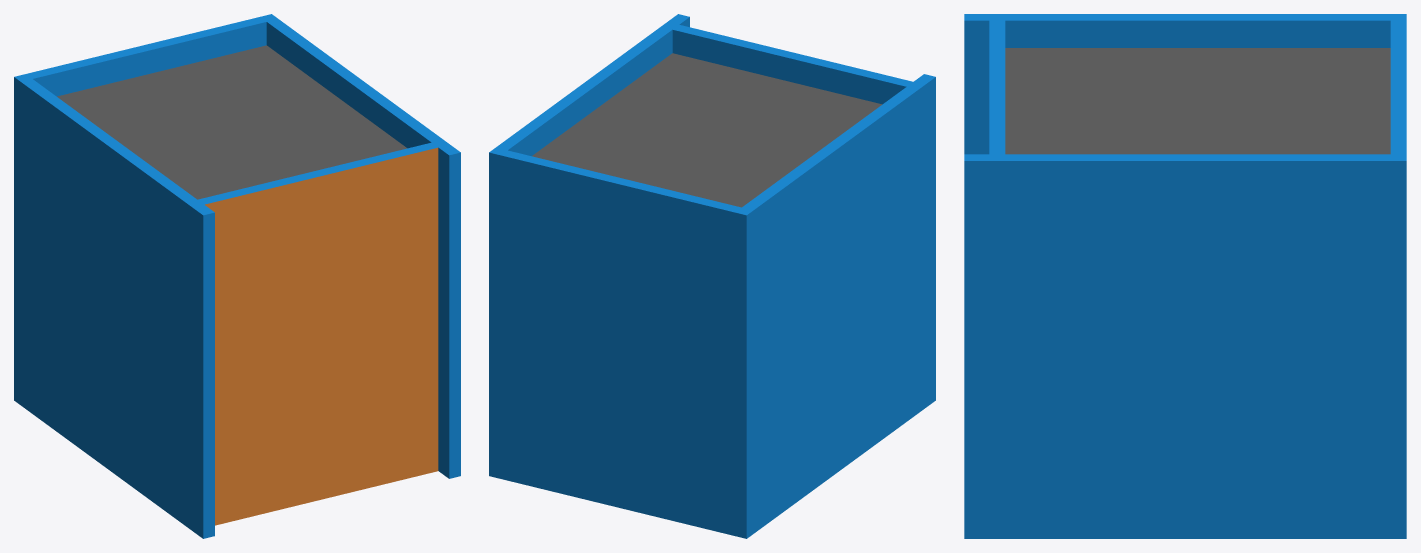
Rendered from SmallBuilding.fbx.
3 renders of one model, left to right at view 1: azimuth 30°, elevation 25°; view 2: azimuth 150°, elevation 25°; view 3: azimuth 270°, elevation 25°, orthographic. The views are drawn at different scales.
Parts seen in each view (by area): view 1: Cube.004; view 2: Cube.004; view 3: Cube.004.
Boxes of the visible parts, x1,y1,x2,y2 form: Cube.004: [14, 14, 460, 538]; Cube.004: [489, 14, 935, 538]; Cube.004: [964, 14, 1406, 538].
Size of the model in its own units: 250 by 300 by 318.
